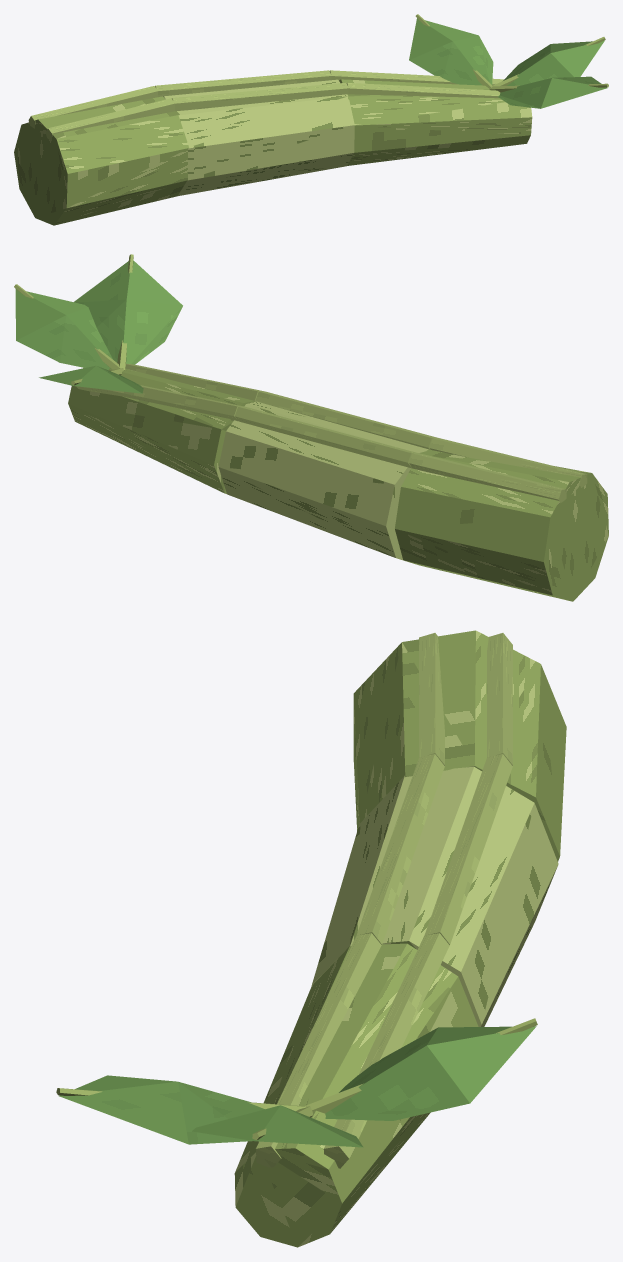
The model's file is celery.glb.
The picture shows the model from 3 angles, top to bottom: view 1: azimuth 30°, elevation 25°; view 2: azimuth 150°, elevation 25°; view 3: azimuth 270°, elevation 25°; orthographic projection. The views are drawn at different scales.
Visible parts, largest first — view 1: block_ribbed celery stalk 0, block_ribbed celery stalk 1, block_ribbed celery stalk 2, block_celery leaf blade (×5), block_pale raised stalk rib 1 (×2), block_celery leaf tip (×4), block_pale raised stalk rib 0 (×2), block_pale raised stalk rib 2 (×2); view 2: block_ribbed celery stalk 0, block_ribbed celery stalk 1, block_ribbed celery stalk 2, block_celery leaf blade (×4), block_pale raised stalk rib 1 (×2), block_celery leaf tip (×5), block_pale raised stalk rib 0 (×2), block_pale raised stalk rib 2 (×2); view 3: block_ribbed celery stalk 1, block_ribbed celery stalk 2, block_ribbed celery stalk 0, block_celery leaf tip (×6), block_pale raised stalk rib 1 (×2), block_pale raised stalk rib 2 (×2), block_celery leaf blade (×3), block_pale raised stalk rib 0 (×2), block_celery leaf vein.
Part boxes in pixels (bbox=[...]): block_ribbed celery stalk 0: bbox=[14, 96, 188, 225]; block_ribbed celery stalk 1: bbox=[163, 79, 354, 195]; block_ribbed celery stalk 2: bbox=[339, 79, 532, 165]; block_celery leaf blade (×5): bbox=[409, 35, 573, 108]; block_pale raised stalk rib 1 (×2): bbox=[155, 70, 348, 111]; block_celery leaf tip (×4): bbox=[409, 18, 607, 108]; block_pale raised stalk rib 0 (×2): bbox=[28, 86, 174, 141]; block_pale raised stalk rib 2 (×2): bbox=[329, 70, 503, 98]; block_ribbed celery stalk 0: bbox=[395, 449, 608, 601]; block_ribbed celery stalk 1: bbox=[218, 401, 428, 565]; block_ribbed celery stalk 2: bbox=[68, 367, 255, 493]; block_celery leaf blade (×4): bbox=[16, 299, 182, 370]; block_pale raised stalk rib 1 (×2): bbox=[234, 391, 436, 468]; block_celery leaf tip (×5): bbox=[15, 260, 182, 393]; block_pale raised stalk rib 0 (×2): bbox=[409, 437, 587, 502]; block_pale raised stalk rib 2 (×2): bbox=[76, 363, 263, 421]; block_ribbed celery stalk 1: bbox=[311, 766, 558, 1026]; block_ribbed celery stalk 2: bbox=[234, 943, 478, 1247]; block_ribbed celery stalk 0: bbox=[353, 630, 566, 861]; block_celery leaf tip (×6): bbox=[59, 1026, 536, 1147]; block_pale raised stalk rib 1 (×2): bbox=[356, 754, 512, 944]; block_pale raised stalk rib 2 (×2): bbox=[256, 933, 449, 1168]; block_celery leaf blade (×3): bbox=[178, 1028, 469, 1144]; block_pale raised stalk rib 0 (×2): bbox=[419, 633, 512, 765]; block_celery leaf vein: bbox=[305, 1018, 537, 1113].
Size of the model in its own units: 0.19 by 0.0349 by 0.0815.
2 materials, 2 textured.
